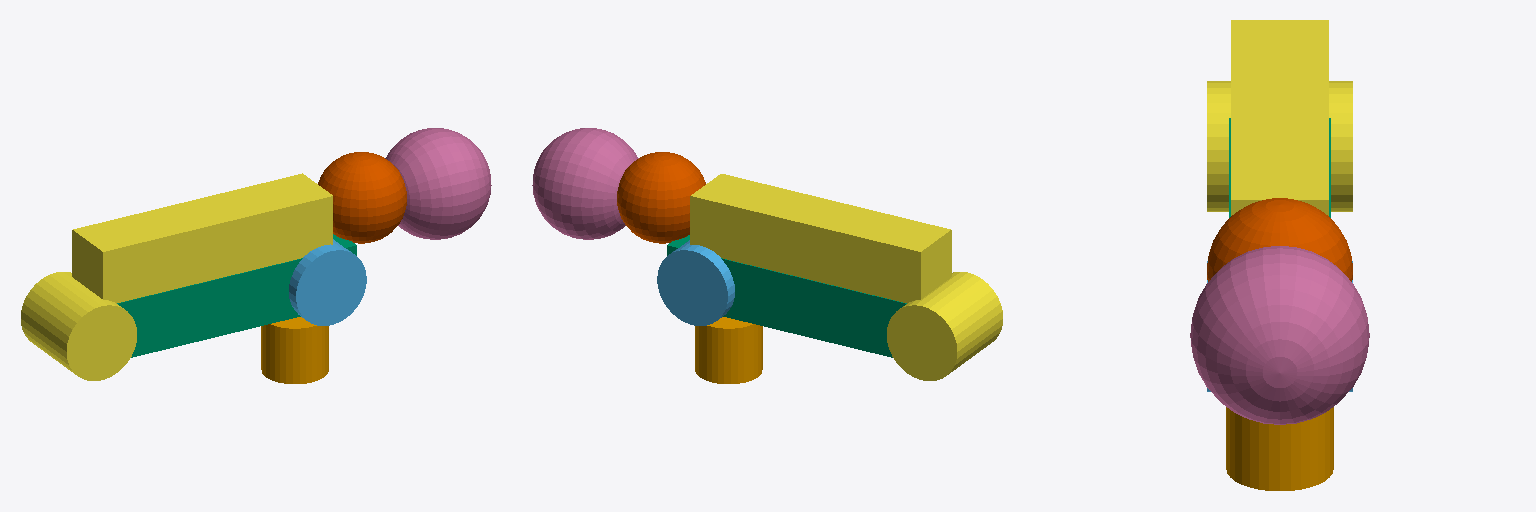
robot.urdf — yam_v0:
<?xml version="1.0" encoding="utf-8"?>
<robot name="yam_v0" path="yam.urdf">
	<link name="base_link">
		<inertial>
			<origin xyz="-7.22812e-05 2.52572e-05 0.0159932" rpy="0 0 0"></origin>
			<mass value="0.822546"></mass>
			<inertia ixx="0.00169415" ixy="2.43507e-07" ixz="-1.31515e-07" iyy="0.00066093" iyz="-9.11171e-07" izz="0.00155626"></inertia>
		</inertial>
		<visual>
			<origin xyz="-7.22812e-05 2.52572e-05 0.0159932" rpy="0 -0 0"></origin>
			<geometry>
				<mesh filename="package://assets/base_link_visual.stl"></mesh>
			</geometry>
			<material name="base_link_parts_material">
				<color rgba="1 0.6 0 1.0"></color>
			</material>
		</visual>
		<visual>
			<geometry>
                                <cylinder radius="0.033" length="0.06"></cylinder>
			</geometry>
			<origin xyz="0 0 0.03" rpy="0 0 0"></origin>
		</visual>
	</link>
	<link name="link_1">
		<inertial>
			<origin xyz="-0.00192861 -0.00795735 0.0208176" rpy="0 0 0"></origin>
			<mass value="0.12415"></mass>
			<inertia ixx="5.98038e-05" ixy="-4.5902e-06" ixz="7.411e-06" iyy="0.000169215" iyz="1.68342e-05" izz="0.000156182"></inertia>
		</inertial>
		<visual>
			<origin xyz="-0.00192861 -0.00795735 0.0208176" rpy="0 -0 -1.5708"></origin>
			<geometry>
				<mesh filename="package://assets/link_1_visual.stl"></mesh>
			</geometry>
			<material name="link_1_parts_material">
				<color rgba="1 0.6 0 1.0"></color>
			</material>
		</visual>
		<visual>
			<origin xyz="0 -0.015 0.04" rpy="0 1.5708 0"></origin>
			<geometry>
				<cylinder radius="0.04" length="0.09"></cylinder>
			</geometry>
		</visual>
	</link>
	<link name="link_2">
		<inertial>
			<origin xyz="0.132008 2.10599e-06 0.000293073" rpy="0 0 0"></origin>
			<mass value="1.24434"></mass>
			<inertia ixx="0.000683304" ixy="1.99503e-09" ixz="3.68337e-09" iyy="0.0121902" iyz="3.20067e-09" izz="0.0121318"></inertia>
		</inertial>
		<visual>
			<origin xyz="0.132008 2.10599e-06 0.000293073" rpy="1.5708 1.96007e-14 3.14159"></origin>
			<geometry>
				<mesh filename="package://assets/link_2_visual.stl"></mesh>
			</geometry>
			<material name="link_2_parts_material">
				<color rgba="1 0.6 0 1.0"></color>
			</material>
		</visual>
		<visual>
			<origin xyz="0.128 0 0" rpy="0 0 0"></origin>
			<geometry>
				<box size="0.32 0.062 0.062"></box>
			</geometry>
		</visual>
	</link>
	<link name="link_3">
		<inertial>
			<origin xyz="-0.121816 -0.054846 -0.000111108" rpy="0 0 0"></origin>
			<mass value="0.853698"></mass>
			<inertia ixx="0.000835003" ixy="-0.000536647" ixz="-1.03114e-05" iyy="0.00694973" iyz="-6.38588e-06" izz="0.00696195"></inertia>
		</inertial>
		<visual>
			<origin xyz="-0.121816 -0.054846 -0.000111108" rpy="-1.5708 -1.96007e-14 -3.14159"></origin>
			<geometry>
				<mesh filename="package://assets/link_3_visual.stl"></mesh>
			</geometry>
			<material name="link_3_parts_material">
				<color rgba="1 0.6 0 1.0"></color>
			</material>
		</visual>
		<visual>
			<origin xyz="0 0 0" rpy="0 0 0"></origin>
			<geometry>
				<cylinder radius="0.04" length="0.09"></cylinder>
			</geometry>
		</visual>
		<visual>
			<origin xyz="-0.14 -0.06 0" rpy="0 0 0"></origin>
			<geometry>
				<box size="0.26 0.06 0.06"></box>
			</geometry>
		</visual>
	</link>
	<link name="link_4">
		<inertial>
			<origin xyz="-0.0569778 -0.0527104 0.000154878" rpy="0 0 0"></origin>
			<mass value="0.463511"></mass>
			<inertia ixx="0.000582374" ixy="-0.000250406" ixz="-7.15749e-06" iyy="0.000491129" iyz="-3.22486e-06" izz="0.000744878"></inertia>
		</inertial>
		<visual>
			<origin xyz="-0.0569778 -0.0527104 0.000154878" rpy="-1.5708 -1.34671e-13 -3.14159"></origin>
			<geometry>
				<mesh filename="package://assets/link_4_visual.stl"></mesh>
			</geometry>
			<material name="link_4_parts_material">
				<color rgba="1 0.6 0 1.0"></color>
			</material>
		</visual>
	</link>
	<link name="link_5">
		<inertial>
			<origin xyz="3.64861e-05 0.00025665 0.0353526" rpy="0 0 0"></origin>
			<mass value="0.350962"></mass>
			<inertia ixx="0.000197798" ixy="-3.20004e-07" ixz="-2.01757e-07" iyy="0.000172615" iyz="-1.10998e-05" izz="0.000152291"></inertia>
		</inertial>
		<visual>
			<origin xyz="3.64861e-05 0.00025665 0.0353526" rpy="-3.14159 5.80587e-15 1.5708"></origin>
			<geometry>
				<mesh filename="package://assets/link_5_visual.stl"></mesh>
			</geometry>
			<material name="link_5_parts_material">
				<color rgba="1 0.6 0 1.0"></color>
			</material>
		</visual>
		<visual>
			<geometry>
				<sphere radius="0.045"></sphere>
			</geometry>
			<origin xyz="0 0 0.035" rpy="0 0 0"></origin>
		</visual>
	</link>
	<link name="link_6">
		<inertial>
			<origin xyz="-5.10177e-05 -0.00269952 0.0481778" rpy="0 0 0"></origin>
			<mass value="0.60366"></mass>
			<inertia ixx="0.000955866" ixy="1.47274e-05" ixz="-5.44088e-06" iyy="0.000761363" iyz="0.000106418" izz="0.000508596"></inertia>
		</inertial>
		<visual>
			<origin xyz="-5.10177e-05 -0.00269952 0.0481778" rpy="-1.5708 -1.5708 0"></origin>
			<geometry>
				<mesh filename="package://assets/link_6_visual.stl"></mesh>
			</geometry>
			<material name="link_6_parts_material">
				<color rgba="1 0.6 0 1.0"></color>
			</material>
		</visual>
		<visual>
			<geometry>
				<sphere radius="0.055"></sphere>
			</geometry>
			<origin xyz="0 0 0.048" rpy="0 0 0"></origin>
		</visual>
	</link>
	<joint name="joint6" type="revolute">
		<origin xyz="-4.0742e-16 0.0353 0.0395" rpy="-1.5708 3.81639e-16 4.68582e-15"></origin>
		<parent link="link_5"></parent>
		<child link="link_6"></child>
		<axis xyz="0 0 1"></axis>
		<limit effort="10" velocity="10" lower="-2.0944" upper="2.0944"></limit>
	</joint>
	<joint name="joint5" type="revolute">
		<origin xyz="-0.0739968 -0.0395003 2.44738e-05" rpy="-1.5708 1.5708 0"></origin>
		<parent link="link_4"></parent>
		<child link="link_5"></child>
		<axis xyz="0 0 1"></axis>
		<limit effort="10" velocity="10" lower="-1.5708" upper="1.5708"></limit>
	</joint>
	<joint name="joint4" type="revolute">
		<origin xyz="-0.245 -0.0600003 -1.9984e-15" rpy="-5.65471e-31 -1.1507e-13 2.94252e-43"></origin>
		<parent link="link_3"></parent>
		<child link="link_4"></child>
		<axis xyz="0 0 1"></axis>
		<limit effort="10" velocity="10" lower="-1.5708" upper="1.5708"></limit>
	</joint>
	<joint name="joint3" type="revolute">
		<origin xyz="0.264 0 6.77626e-21" rpy="-3.14159 1.26218e-29 7.88861e-31"></origin>
		<parent link="link_2"></parent>
		<child link="link_3"></child>
		<axis xyz="0 0 1"></axis>
		<limit effort="10" velocity="10" lower="0" upper="3.13"></limit>
	</joint>
	<joint name="joint2" type="revolute">
		<origin xyz="2.5e-05 -0.02 0.0409" rpy="1.5708 -1.98004e-28 1.5708"></origin>
		<parent link="link_1"></parent>
		<child link="link_2"></child>
		<axis xyz="0 0 1"></axis>
		<limit effort="10" velocity="10" lower="0" upper="3.65"></limit>
	</joint>
	<joint name="joint1" type="revolute">
		<origin xyz="-3.55271e-18 -1.05495e-18 0.0631" rpy="0 -0 1.5708"></origin>
		<parent link="base_link"></parent>
		<child link="link_1"></child>
		<axis xyz="0 0 1"></axis>
		<limit effort="10" velocity="10" lower="-2.61799" upper="3.13"></limit>
	</joint>
</robot>

--- Render facts (derived) ---
The picture shows the robot from 3 angles, left to right: view 1: azimuth 30°, elevation 25°; view 2: azimuth 150°, elevation 25°; view 3: azimuth 270°, elevation 25°; orthographic projection.
Model yam_v0 with 7 links and 6 joints (6 revolute), rooted at base_link, posed all joints at 0.
Links seen in each view (by area): view 1: link_3, link_2, link_6, link_5, link_1, base_link; view 2: link_3, link_2, link_6, link_5, link_1, base_link; view 3: link_6, link_3, base_link, link_5.
Link boxes in pixels (x1,y1,x2,y2): link_3: [21, 173, 332, 380]; link_2: [117, 234, 356, 357]; link_6: [385, 128, 491, 239]; link_5: [318, 152, 406, 243]; link_1: [289, 239, 366, 325]; base_link: [261, 317, 328, 383]; link_3: [690, 174, 1002, 380]; link_2: [667, 235, 906, 357]; link_6: [532, 128, 638, 239]; link_5: [617, 152, 705, 243]; link_1: [657, 240, 734, 325]; base_link: [695, 317, 762, 383]; link_6: [1190, 246, 1369, 424]; link_3: [1207, 20, 1352, 215]; base_link: [1226, 407, 1333, 490]; link_5: [1207, 198, 1352, 281].
Size in the robot's own frame: 0.4973 by 0.11 by 0.219 metres.
Meshes: 7 distinct files referenced, 0 mesh visuals loaded (none loaded); not drawn: 7 (reference not matched to a file when rendering).
